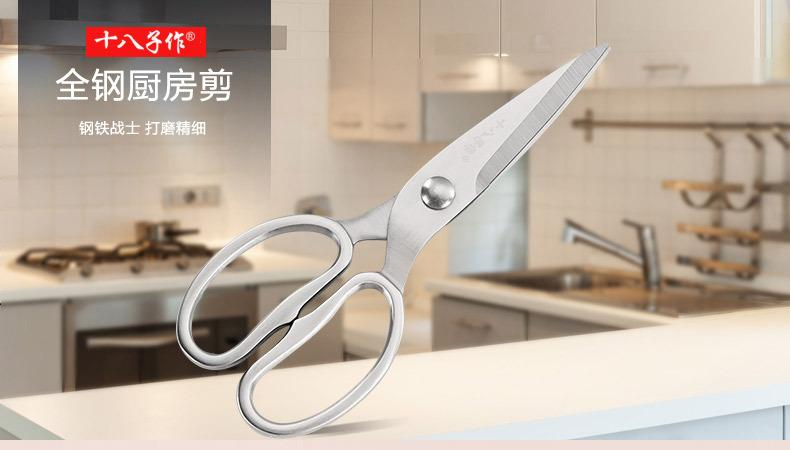scissor: (175, 43, 612, 435)
